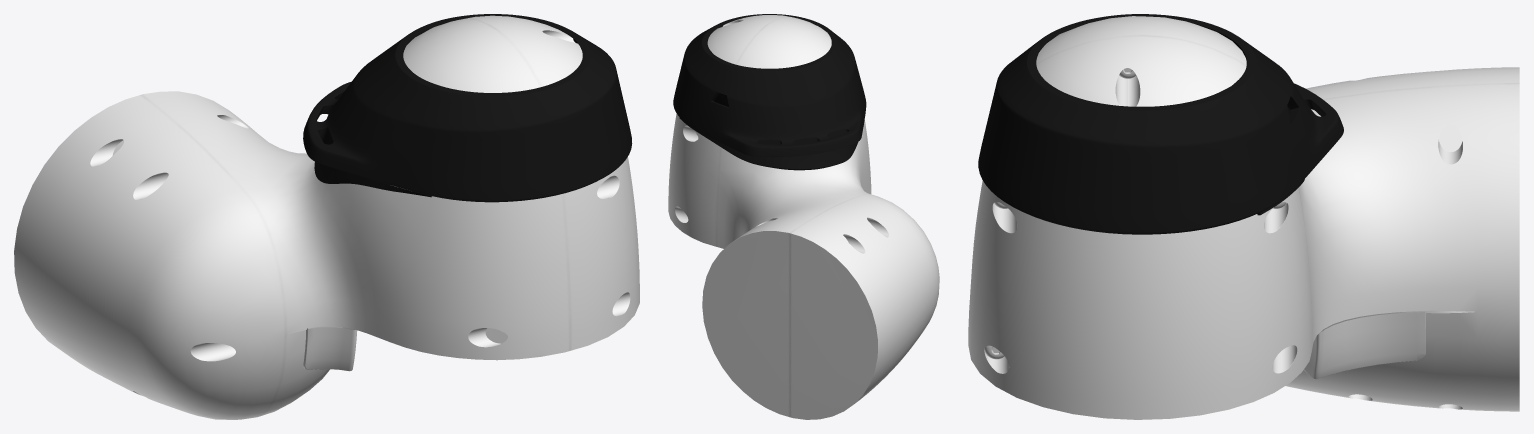
3 renders of one model, left to right at view 1: azimuth 30°, elevation 25°; view 2: azimuth 150°, elevation 25°; view 3: azimuth 270°, elevation 25°, orthographic. The views are drawn at different scales.
Parts seen in each view (by area): view 1: link3; view 2: link3; view 3: link3.
Part boxes in pixels (x1,y1,x2,y2): link3: (14,14,639,419); link3: (668,14,939,419); link3: (968,14,1519,419).
Bounding box in the file's own units: 0.1924 × 0.1659 × 0.1759.
1 material, 1 textured.
